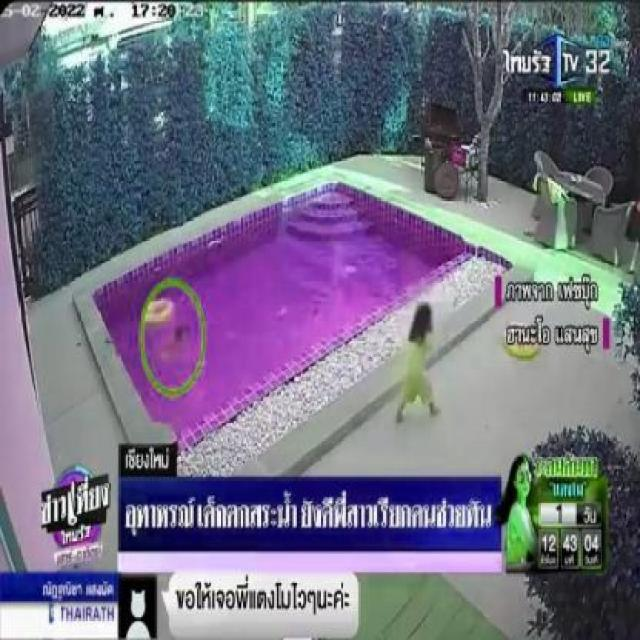drowning: (152, 326, 192, 371)
